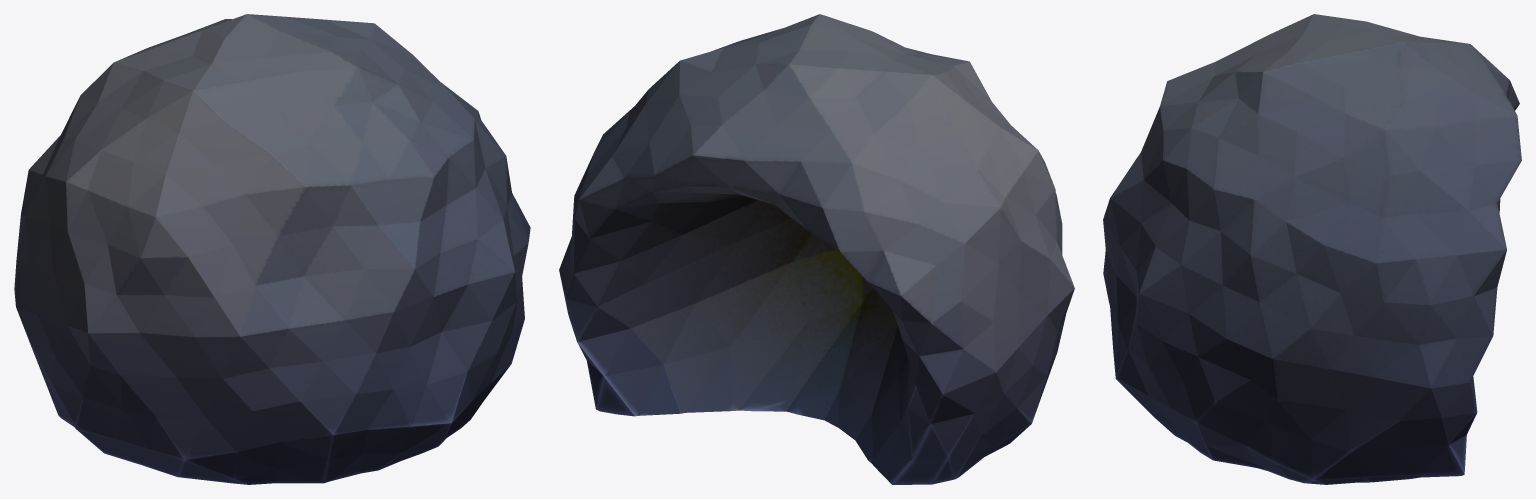
File: cave2.fbx
The picture shows the model from 3 angles, left to right: view 1: azimuth 30°, elevation 25°; view 2: azimuth 150°, elevation 25°; view 3: azimuth 270°, elevation 25°; orthographic projection. The views are drawn at different scales.
Visible parts, largest first — view 1: Icosphere; view 2: Icosphere; view 3: Icosphere.
Part boxes in pixels (<box>): Icosphere: <box>14,14,530,484</box>; Icosphere: <box>559,14,1074,484</box>; Icosphere: <box>1103,14,1521,484</box>.
Size of the model in its own units: 2022 by 1605 by 1702.
Materials: 1 (1 with a texture image).
